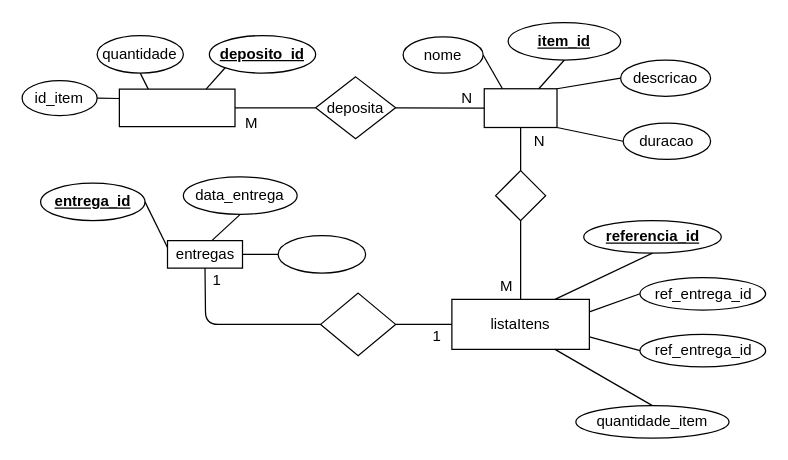
Some shapes in this 788 by 460 pixel diagram are drawn without their labels. The shapes that lost their labels are listed below. From the top down, each one's centre as x and y in pixels, then its label:
At (176,107): "Depositos".
At (520,108): "Itens".
At (520,195): "Tem".
At (321,253): "morada".
At (357,324): "possui".
